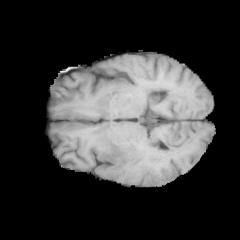glioma: (96, 142, 160, 183)
